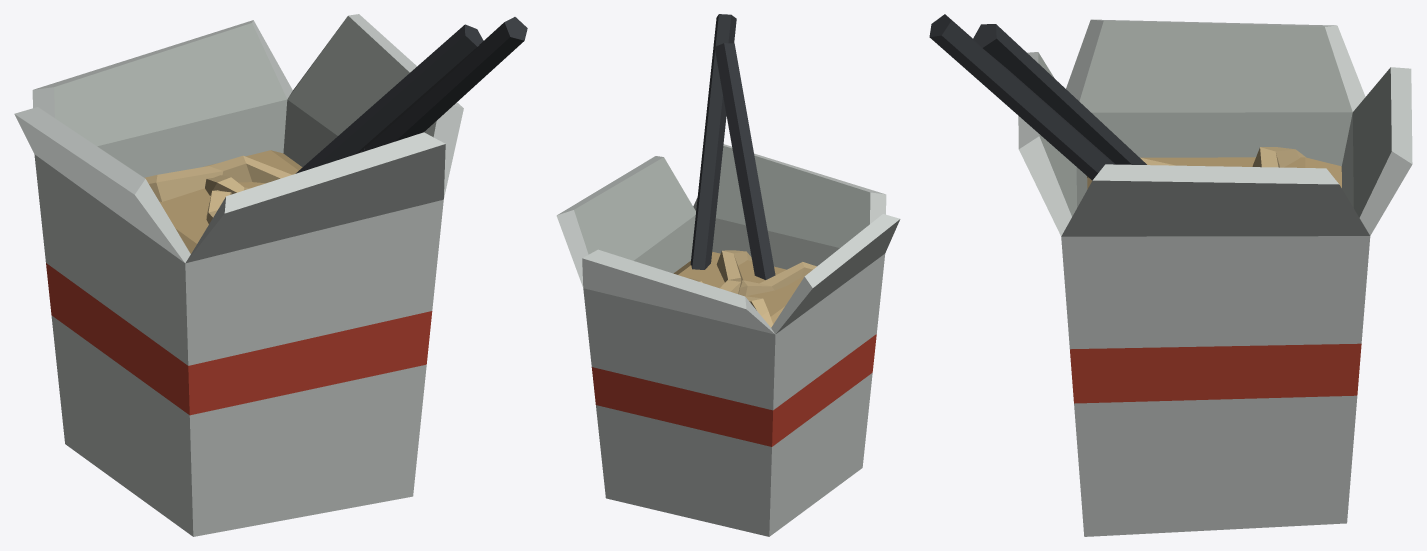
The model's file is SM_Prop_Noodle_Box_02.fbx.
3 views of the same model, side by side, from view 1: azimuth 30°, elevation 25°; view 2: azimuth 150°, elevation 25°; view 3: azimuth 270°, elevation 25° (orthographic). The views are drawn at different scales.
Parts seen in each view (by area): view 1: SM_Prop_Noodle_Box_02; view 2: SM_Prop_Noodle_Box_02; view 3: SM_Prop_Noodle_Box_02.
Boxes of the visible parts, x1,y1,x2,y2 form: SM_Prop_Noodle_Box_02: (14,14,527,536); SM_Prop_Noodle_Box_02: (556,14,900,536); SM_Prop_Noodle_Box_02: (929,14,1412,536).
Size of the model in its own units: 24.49 by 35.07 by 28.7.
